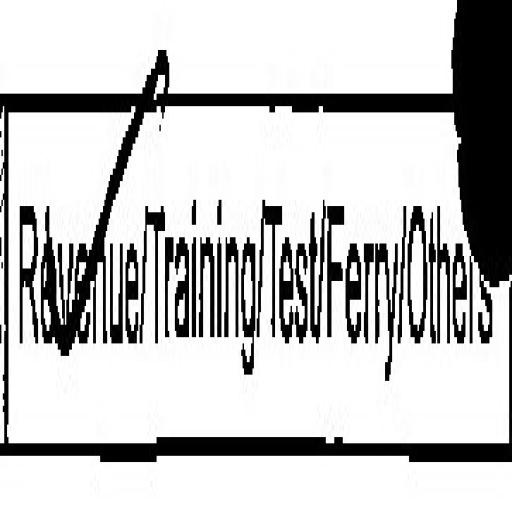check: (12, 0, 147, 502)
